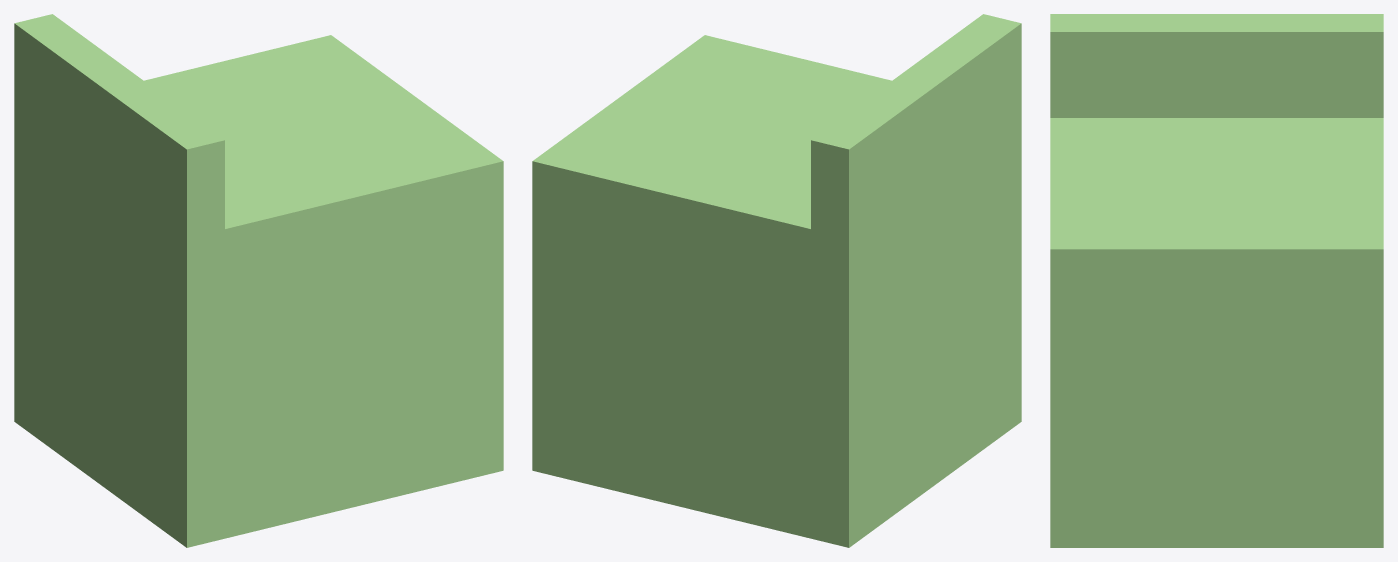
File: counter.dae
The picture shows the model from 3 angles, left to right: view 1: azimuth 30°, elevation 25°; view 2: azimuth 150°, elevation 25°; view 3: azimuth 270°, elevation 25°; orthographic projection. The views are drawn at different scales.
Visible parts, largest first — view 1: cleaning; view 2: cleaning; view 3: cleaning.
Part boxes in pixels (x1,y1,x2,y2): cleaning: [14, 14, 503, 547]; cleaning: [532, 14, 1021, 547]; cleaning: [1050, 14, 1383, 547].
Size of the model in its own units: 1.12 by 1.06 by 1.35.
